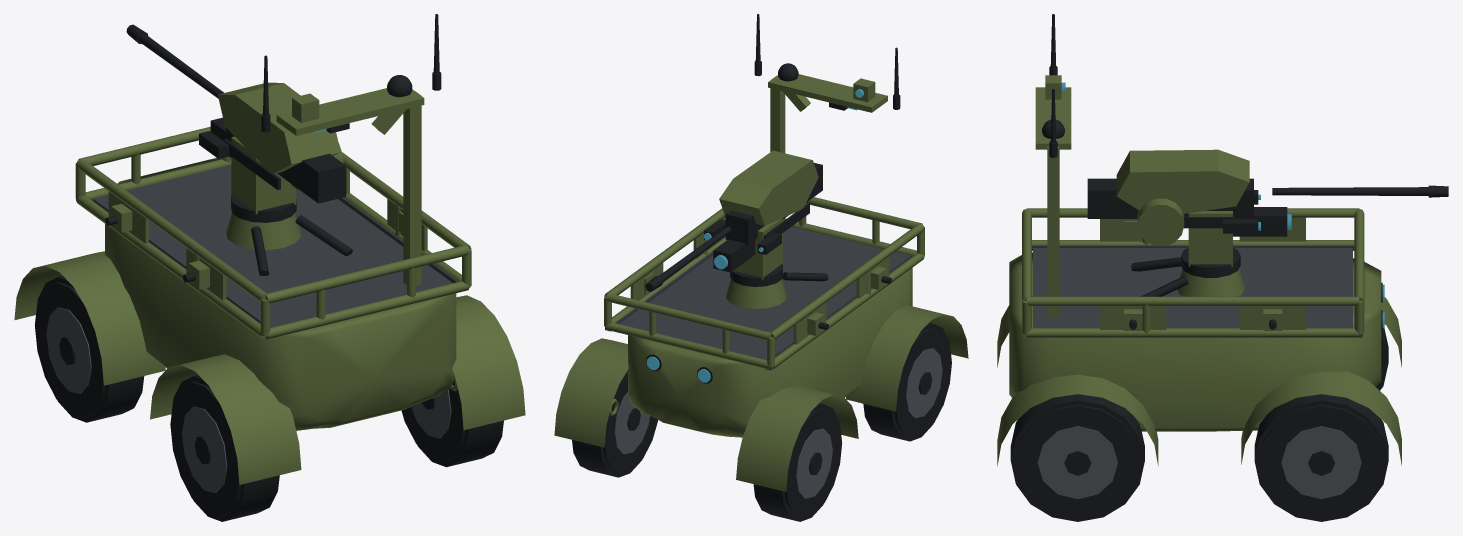
Rendered from ugv-named.glb.
3 views of the same model, side by side, from view 1: azimuth 30°, elevation 25°; view 2: azimuth 150°, elevation 25°; view 3: azimuth 270°, elevation 25° (orthographic). The views are drawn at different scales.
Visible parts, largest first — view 1: ugv-hull, ugv-deck, ugv-mudguard-lb, ugv-mudguard-lf, ugv-mudguard-rb, ugv-cowl, ugv-wheel-lf-shoulder, ugv-wheel-lb-shoulder, ugv-mast-post, ugv-mast-arm, ugv-rail-top-side-l, ugv-wheel-lf-rim (+23 smaller); view 2: ugv-hull, ugv-deck, ugv-mudguard-lf, ugv-mudguard-rf, ugv-mudguard-lb, ugv-cowl, ugv-wheel-lb-shoulder, ugv-wheel-lf-shoulder, ugv-mast-arm, ugv-rail-top-side-l, ugv-wheel-rf-shoulder, ugv-wheel-lf-rim (+19 smaller); view 3: ugv-hull, ugv-deck, ugv-cowl, ugv-wheel-rf-shoulder, ugv-wheel-rb-shoulder, ugv-wheel-rf-rim, ugv-wheel-rb-rim, ugv-mudguard-rf, ugv-mudguard-rb, ugv-rail-top-side-r, ugv-wheel-rf-tyre, ugv-wheel-rb-tyre (+21 smaller).
Boxes of the visible parts, x1=… form: ugv-hull: x1=105, y1=158, x2=456, y2=430; ugv-deck: x1=93, y1=165, x2=452, y2=327; ugv-mudguard-lb: x1=150, y1=354, x2=301, y2=484; ugv-mudguard-lf: x1=14, y1=251, x2=165, y2=385; ugv-mudguard-rb: x1=452, y1=295, x2=525, y2=430; ugv-cowl: x1=218, y1=82, x2=340, y2=173; ugv-wheel-lf-shoulder: x1=34, y1=282, x2=105, y2=418; ugv-wheel-lb-shoulder: x1=170, y1=381, x2=241, y2=517; ugv-mast-post: x1=403, y1=91, x2=421, y2=285; ugv-mast-arm: x1=276, y1=88, x2=424, y2=135; ugv-rail-top-side-l: x1=76, y1=159, x2=266, y2=302; ugv-wheel-lf-rim: x1=46, y1=307, x2=91, y2=393; ugv-hull: x1=628, y1=224, x2=912, y2=437; ugv-deck: x1=619, y1=226, x2=910, y2=359; ugv-mudguard-lf: x1=736, y1=385, x2=858, y2=491; ugv-mudguard-rf: x1=554, y1=338, x2=628, y2=447; ugv-mudguard-lb: x1=846, y1=305, x2=968, y2=411; ugv-cowl: x1=719, y1=150, x2=818, y2=225; ugv-wheel-lb-shoulder: x1=894, y1=327, x2=951, y2=437; ugv-wheel-lf-shoulder: x1=784, y1=408, x2=841, y2=518; ugv-mast-arm: x1=768, y1=74, x2=887, y2=112; ugv-rail-top-side-l: x1=770, y1=223, x2=924, y2=339; ugv-wheel-rf-shoulder: x1=603, y1=370, x2=658, y2=473; ugv-wheel-lf-rim: x1=796, y1=428, x2=832, y2=498; ugv-hull: x1=1009, y1=252, x2=1381, y2=431; ugv-deck: x1=1033, y1=248, x2=1352, y2=328; ugv-cowl: x1=1116, y1=149, x2=1249, y2=213; ugv-wheel-rf-shoulder: x1=1259, y1=404, x2=1383, y2=518; ugv-wheel-rb-shoulder: x1=1015, y1=404, x2=1140, y2=518; ugv-wheel-rf-rim: x1=1281, y1=426, x2=1361, y2=499; ugv-wheel-rb-rim: x1=1037, y1=426, x2=1117, y2=499; ugv-mudguard-rf: x1=1241, y1=371, x2=1401, y2=465; ugv-mudguard-rb: x1=997, y1=374, x2=1158, y2=466; ugv-rail-top-side-r: x1=1027, y1=296, x2=1359, y2=305; ugv-wheel-rf-tyre: x1=1254, y1=394, x2=1388, y2=521; ugv-wheel-rb-tyre: x1=1010, y1=394, x2=1144, y2=521.
Size of the model in its own units: 1.34 by 2.06 by 2.04.
